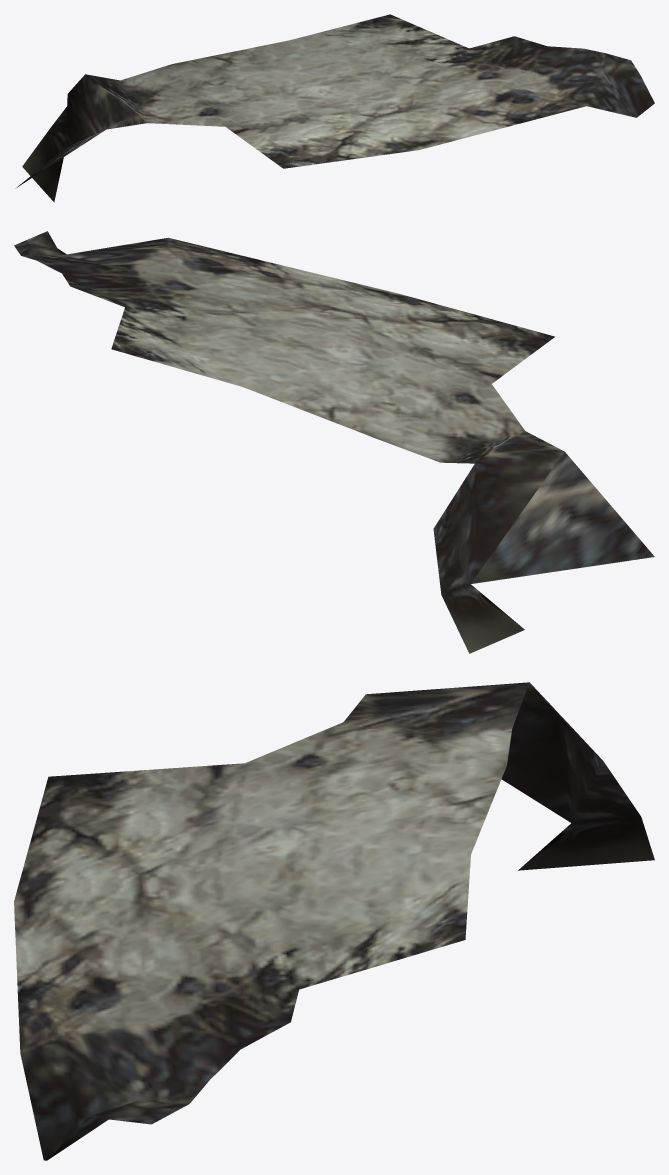
File: S_Build_Desert131_2.FBX
The picture shows the model from 3 angles, top to bottom: view 1: azimuth 30°, elevation 25°; view 2: azimuth 150°, elevation 25°; view 3: azimuth 270°, elevation 25°; orthographic projection. The views are drawn at different scales.
Visible parts, largest first — view 1: S_Build_Desert131_2; view 2: S_Build_Desert131_2; view 3: S_Build_Desert131_2.
Part boxes in pixels (left/top/right/bottom): S_Build_Desert131_2: left=15, top=14, right=654, bottom=202; S_Build_Desert131_2: left=14, top=231, right=654, bottom=653; S_Build_Desert131_2: left=14, top=682, right=654, bottom=1160.
Bounding box in the file's own units: 844 × 459 × 177.
